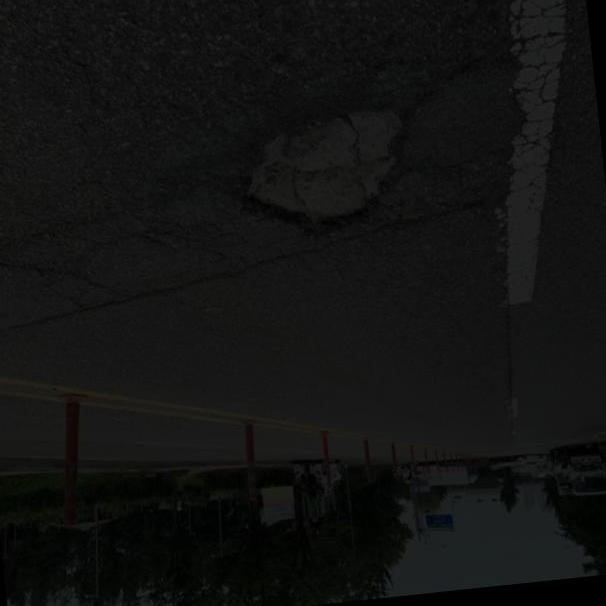pothole: (206, 98, 429, 259)
